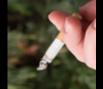Cigarette: (37, 12, 81, 70)
